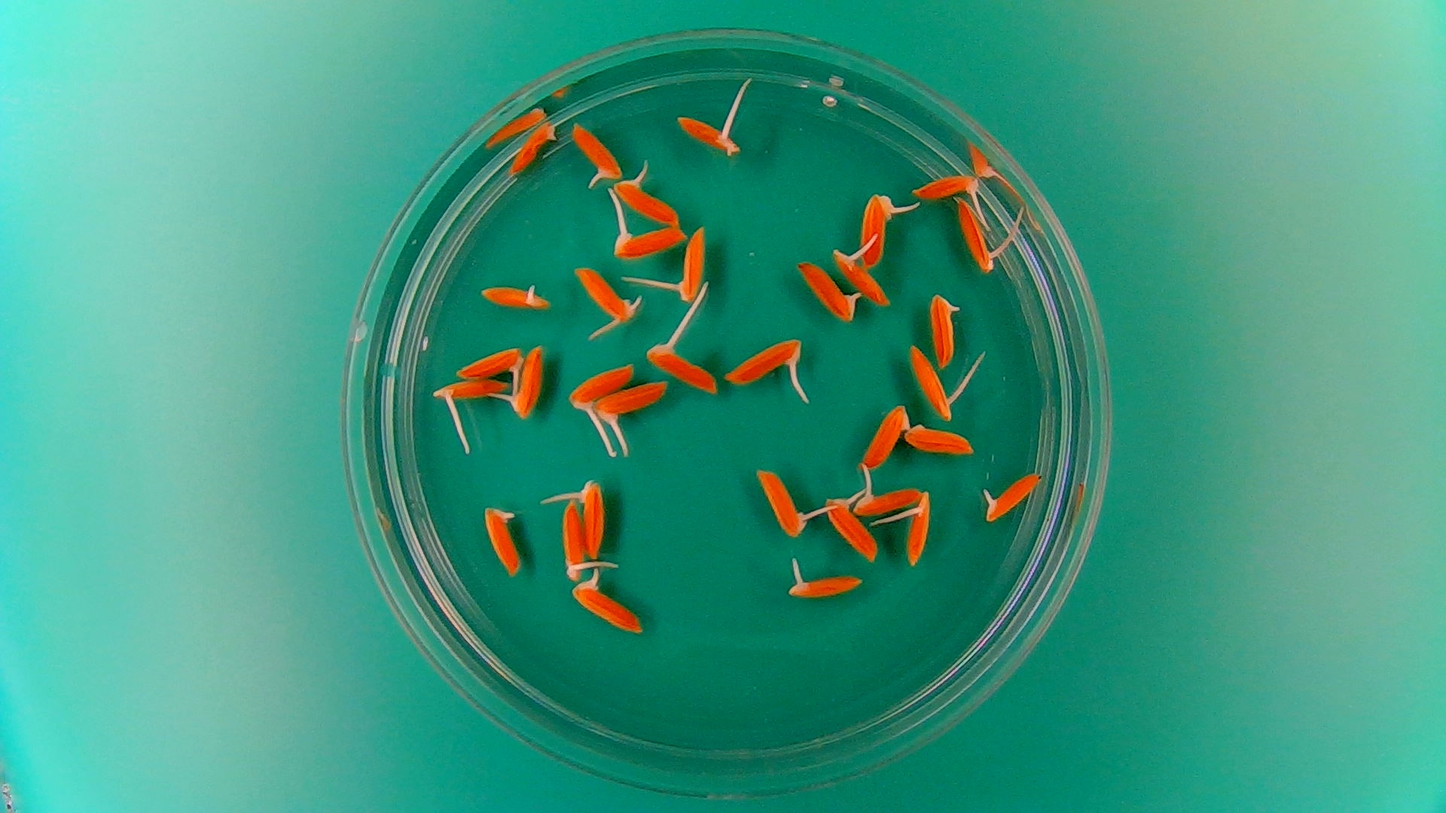no: (858, 400, 911, 468), (507, 117, 559, 175), (904, 426, 972, 458)
yes: (572, 263, 642, 327), (725, 337, 807, 391), (753, 464, 808, 539), (575, 580, 644, 636), (908, 341, 956, 421), (643, 344, 719, 394), (568, 120, 624, 187), (593, 377, 667, 426), (953, 197, 999, 273), (834, 248, 893, 306), (826, 499, 879, 563), (984, 467, 1043, 524), (609, 217, 689, 259), (566, 362, 635, 410), (795, 266, 856, 320), (615, 179, 684, 226), (482, 501, 522, 579), (856, 193, 895, 266), (452, 342, 524, 381), (575, 477, 609, 559), (509, 341, 545, 418), (674, 112, 740, 153), (674, 225, 707, 303), (929, 290, 961, 367), (911, 171, 981, 206), (560, 496, 590, 577), (904, 488, 935, 565), (477, 282, 553, 313), (851, 483, 923, 515), (432, 376, 505, 406), (783, 575, 862, 599)
